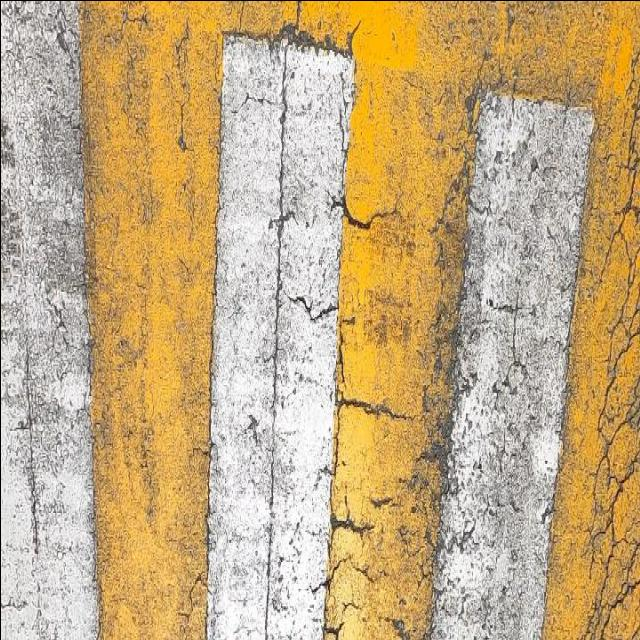cracks: (249, 6, 440, 640), (567, 1, 640, 640)
